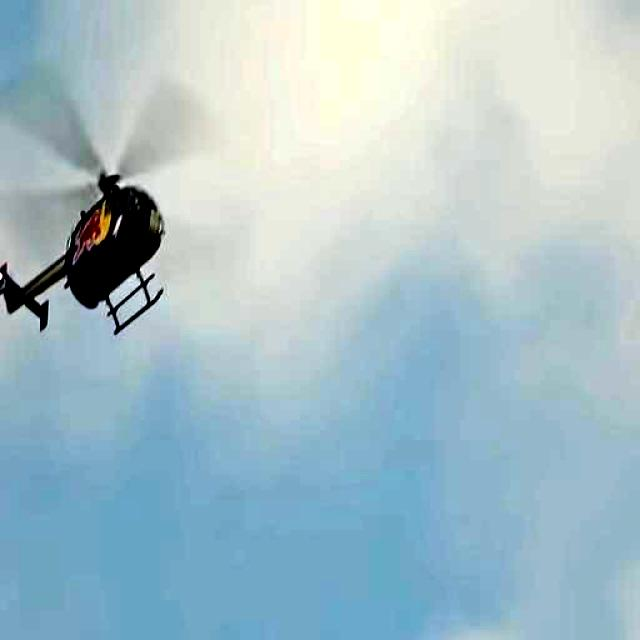drone: (0, 125, 168, 365)
